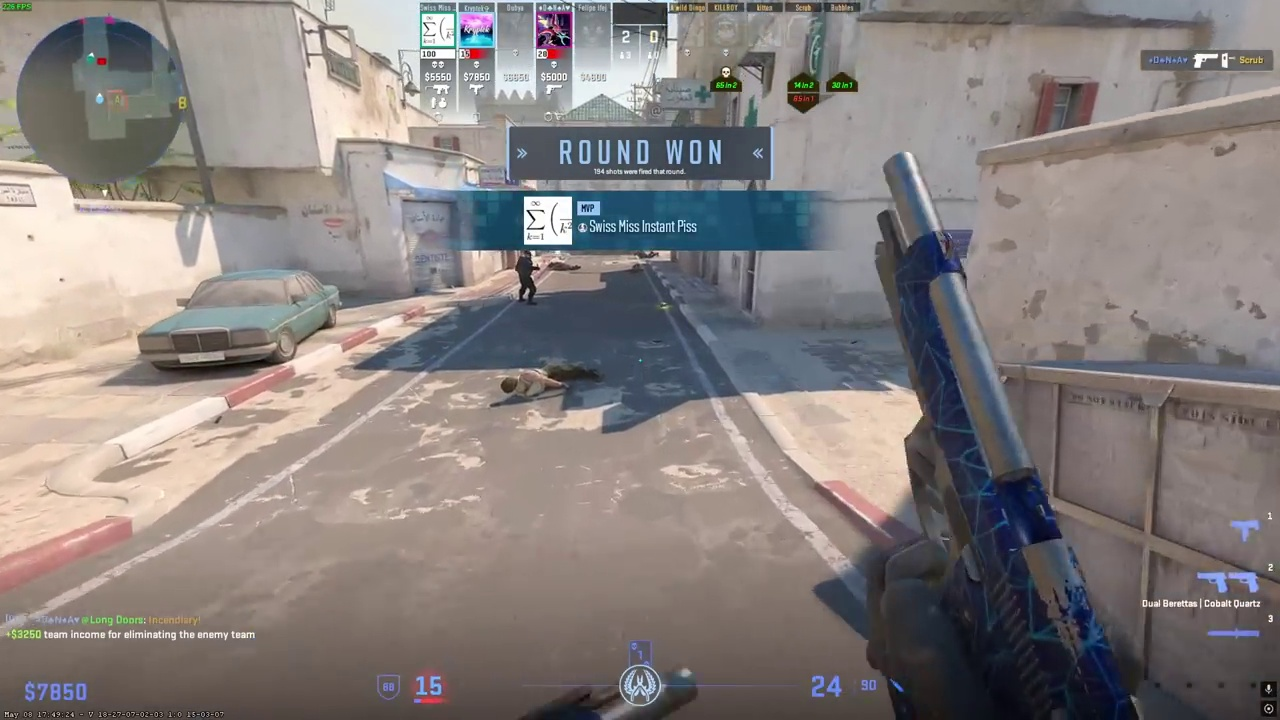CT: (515, 250, 538, 305)
